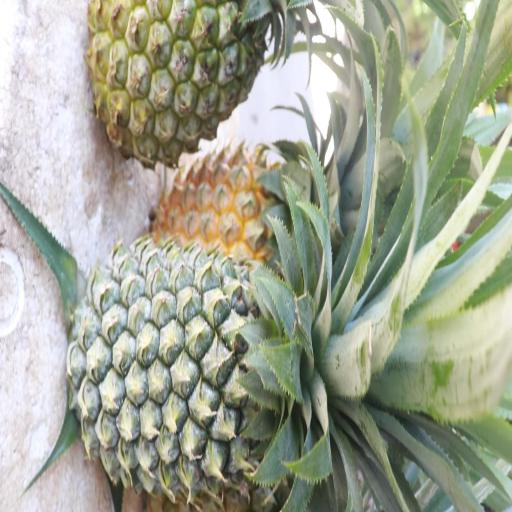------------------------------: (86, 0, 270, 154)
Pineapple - v8 v1: (154, 137, 300, 267)
